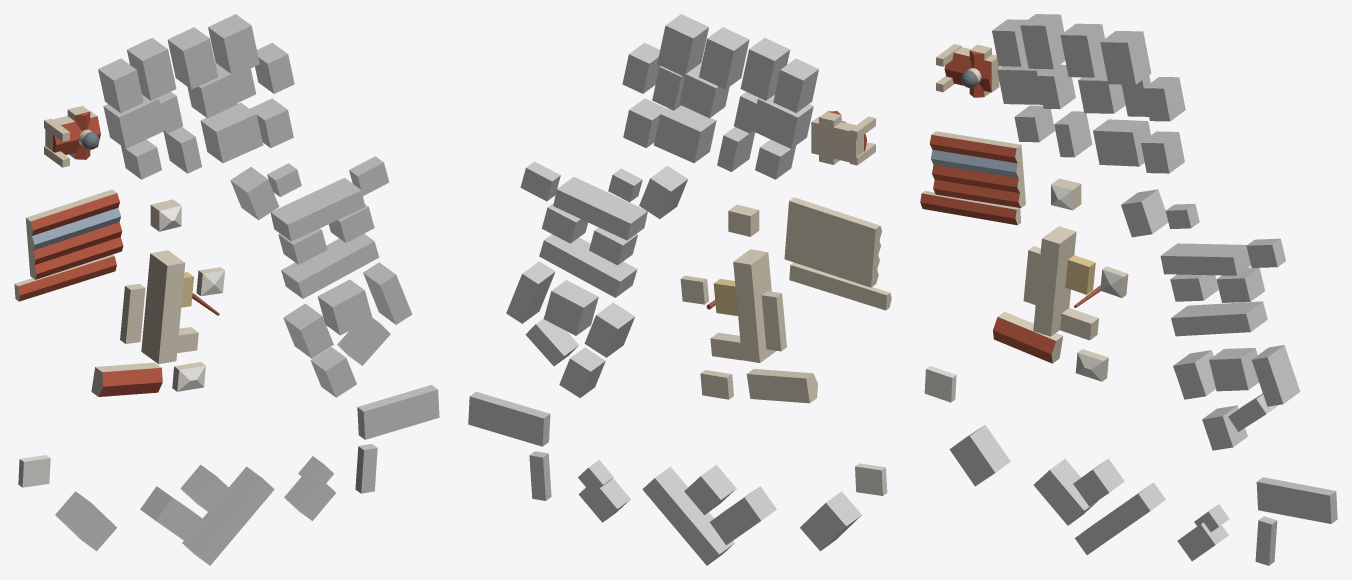
Rendered from alatini_context.obj.
3 renders of one model, left to right at view 1: azimuth 30°, elevation 25°; view 2: azimuth 150°, elevation 25°; view 3: azimuth 330°, elevation 25°, orthographic.
Bounding box in the file's own units: 337 × 408 × 36.
